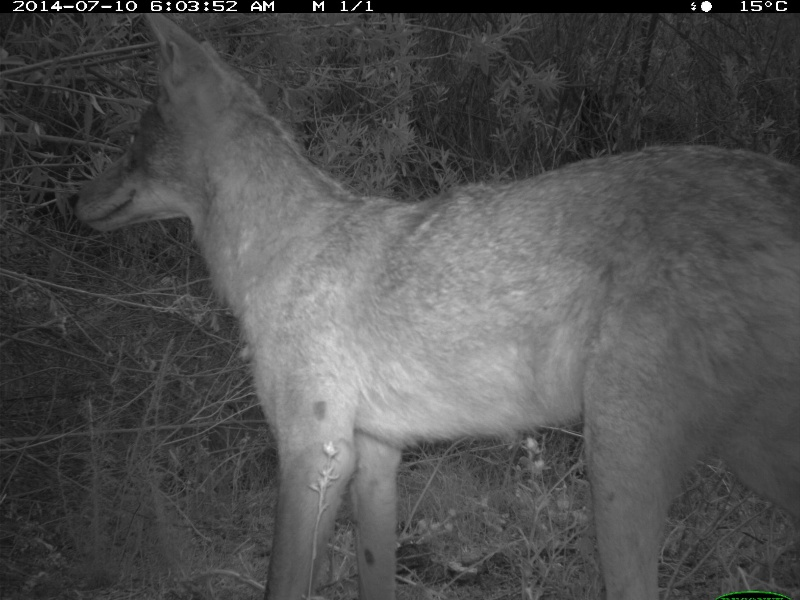coyote: (60, 16, 787, 600)
